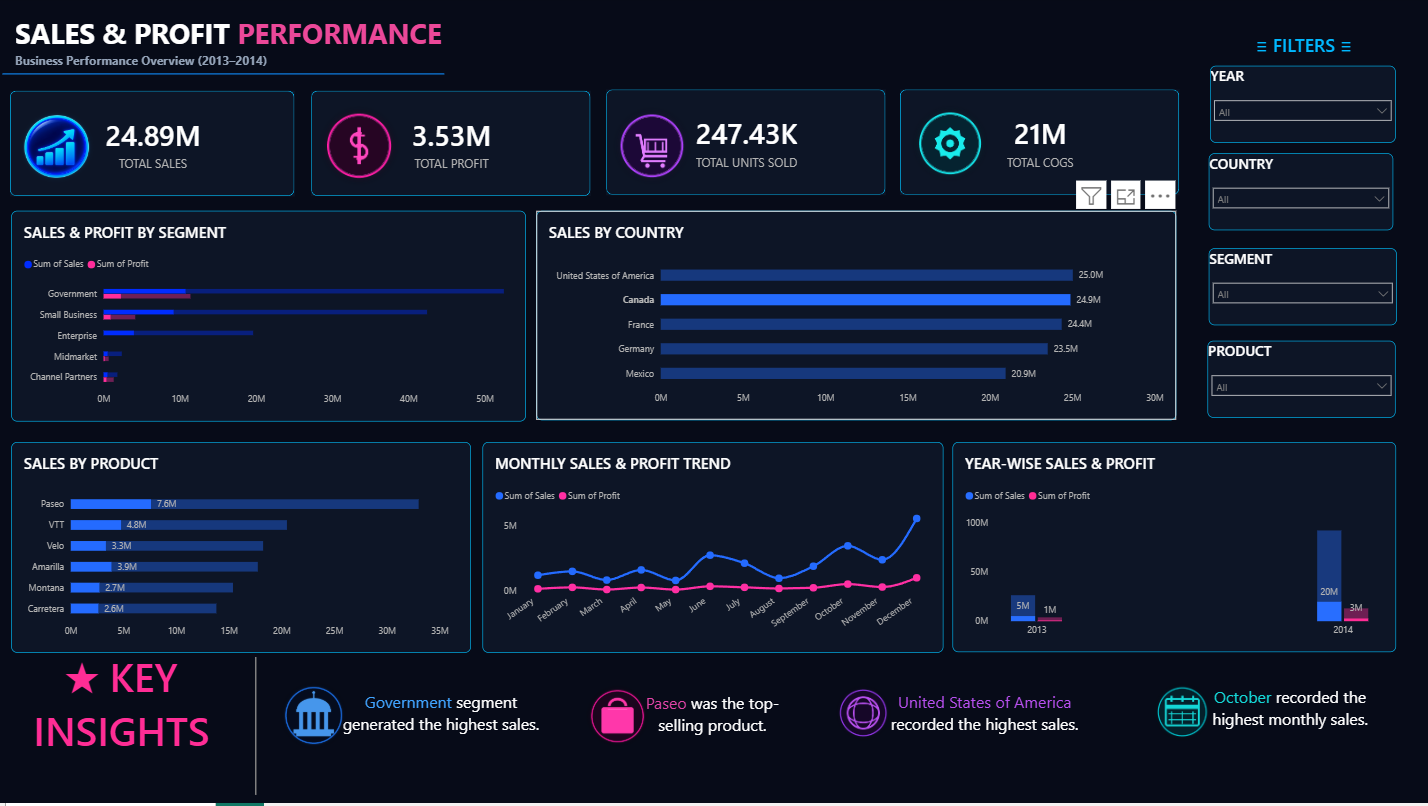

The page's visual inventory and layout, read from the dashboard file:
{"tool":"powerbi","page":{"name":"Sales & Profit Overview","canvas":[1920,1080],"ordinal":0},"visuals":[{"type":"textbox","box":[20.9,22.7,577,162.2],"z":0},{"type":"slicer","title":"YEAR","fields":{"Values":["Week4_Final_Cleaned_Sales_Data.Year"]},"box":[1622.3,92.4,248.8,103.1],"z":0,"group":"g1"},{"type":"shape","box":[3.5,82,592,41.9],"z":1000},{"type":"slicer","title":"COUNTRY","fields":{"Values":["Week4_Final_Cleaned_Sales_Data.Country"]},"box":[1620.9,209.9,247.1,103.1],"z":1000,"group":"g1"},{"type":"cardVisual","fields":{"Data":["Sum(Week4_Final_Cleaned_Sales_Data.Sales)"]},"box":[14,125.6,381.6,141.3],"z":2000},{"type":"slicer","title":"SEGMENT","fields":{"Values":["Week4_Final_Cleaned_Sales_Data.Segment"]},"box":[1619.5,337.5,252,103.1],"z":2000,"group":"g1"},{"type":"cardVisual","fields":{"Data":["Sum(Week4_Final_Cleaned_Sales_Data.Profit)"]},"box":[416.9,125.9,374,141],"z":3000},{"type":"slicer","title":"PRODUCT","fields":{"Values":["Week4_Final_Cleaned_Sales_Data.Product"]},"box":[1618.6,461.2,252,103.1],"z":3000,"group":"g1"},{"type":"cardVisual","fields":{"Data":["Sum(Week4_Final_Cleaned_Sales_Data.Units Sold)"]},"box":[812.1,123.8,374,141.3],"z":4000},{"type":"cardVisual","fields":{"Data":["Sum(Week4_Final_Cleaned_Sales_Data.COGS)"]},"box":[1205.9,123.8,374.3,141.3],"z":5000},{"type":"clusteredBarChart","title":"SALES & PROFIT BY SEGMENT","fields":{"Category":["Week4_Final_Cleaned_Sales_Data.Segment"],"Y":["Sum(Week4_Final_Cleaned_Sales_Data.Sales)","Sum(Week4_Final_Cleaned_Sales_Data.Profit)"]},"box":[15.7,286,689.3,282.6],"z":6000},{"type":"clusteredBarChart","title":"SALES BY COUNTRY","fields":{"Category":["Week4_Final_Cleaned_Sales_Data.Country"],"Y":["Sum(Week4_Final_Cleaned_Sales_Data.Sales)"]},"box":[718.6,286,857.8,280.8],"z":7000},{"type":"clusteredBarChart","title":"SALES BY PRODUCT","fields":{"Category":["Week4_Final_Cleaned_Sales_Data.Product"],"Y":["Sum(Week4_Final_Cleaned_Sales_Data.Sales)"]},"box":[15.7,596.5,616,282.6],"z":8000},{"type":"lineChart","title":"MONTHLY SALES & PROFIT TREND","fields":{"Category":["Week4_Final_Cleaned_Sales_Data.Month Name"],"Y":["Sum(Week4_Final_Cleaned_Sales_Data.Sales)","Sum(Week4_Final_Cleaned_Sales_Data.Profit)"]},"box":[647.1,596.5,617.4,282.6],"z":9000},{"type":"group","id":"g1","title":"Group 1","box":[1618.6,92.4,252.9,472],"z":10000},{"type":"textbox","box":[1657,48.8,181.4,43.3],"z":11000},{"type":"clusteredColumnChart","title":"YEAR-WISE SALES & PROFIT","fields":{"Category":["Week4_Final_Cleaned_Sales_Data.Year"],"Y":["Sum(Week4_Final_Cleaned_Sales_Data.Sales)","Sum(Week4_Final_Cleaned_Sales_Data.Profit)"]},"box":[1276.7,596.5,594.8,281.9],"z":12000},{"type":"textbox","box":[10.5,873.8,305.2,200.6],"z":13000},{"type":"image","box":[6.3,113.4,139.2,174.4],"z":13001},{"type":"image","box":[427.3,116.9,108.1,164],"z":13002},{"type":"image","box":[820.8,112.3,105.7,174.4],"z":13003},{"type":"image","box":[1220.9,108.5,104.3,174.4],"z":13004},{"type":"shape","box":[205,885,276.7,185],"z":13005},{"type":"textbox","box":[446.2,930,290.6,150],"z":13006},{"type":"image","box":[363.8,916,113.7,93.1],"z":13007},{"type":"textbox","box":[850.5,931.7,207.6,64.2],"z":13008},{"type":"image","box":[782.4,920.9,90.7,85.1],"z":13009},{"type":"textbox","box":[1186,930.4,266.9,81.6],"z":13010},{"type":"image","box":[1115.2,921.3,82.3,76],"z":13011},{"type":"textbox","box":[1618.3,923.7,221.2,83],"z":13012},{"type":"image","box":[1541.5,918.1,86.5,80.2],"z":13013}]}

Visuals, with their boxes in screenshot pixels (x1, y1, x2, y2), scaled from the page's 1920x1080 canvas onto the 1428x806 screenshot:
textbox: Rect(16, 17, 445, 138)
"YEAR" slicer: Rect(1207, 69, 1392, 146)
shape: Rect(3, 61, 443, 92)
"COUNTRY" slicer: Rect(1206, 157, 1389, 234)
cardVisual - Sum(Week4_Final_Cleaned_Sales_Data.Sales): Rect(10, 94, 294, 199)
"SEGMENT" slicer: Rect(1205, 252, 1392, 329)
cardVisual - Sum(Week4_Final_Cleaned_Sales_Data.Profit): Rect(310, 94, 588, 199)
"PRODUCT" slicer: Rect(1204, 344, 1391, 421)
cardVisual - Sum(Week4_Final_Cleaned_Sales_Data.Units Sold): Rect(604, 92, 882, 198)
cardVisual - Sum(Week4_Final_Cleaned_Sales_Data.COGS): Rect(897, 92, 1175, 198)
"SALES & PROFIT BY SEGMENT" clusteredBarChart: Rect(12, 213, 524, 424)
"SALES BY COUNTRY" clusteredBarChart: Rect(534, 213, 1172, 423)
"SALES BY PRODUCT" clusteredBarChart: Rect(12, 445, 470, 656)
"MONTHLY SALES & PROFIT TREND" lineChart: Rect(481, 445, 940, 656)
"Group 1" group: Rect(1204, 69, 1392, 421)
textbox: Rect(1232, 36, 1367, 69)
"YEAR-WISE SALES & PROFIT" clusteredColumnChart: Rect(950, 445, 1392, 656)
textbox: Rect(8, 652, 235, 802)
image: Rect(5, 85, 108, 215)
image: Rect(318, 87, 398, 210)
image: Rect(610, 84, 689, 214)
image: Rect(908, 81, 986, 211)
shape: Rect(152, 660, 358, 799)
textbox: Rect(332, 694, 548, 805)
image: Rect(271, 684, 355, 753)
textbox: Rect(633, 695, 787, 743)
image: Rect(582, 687, 649, 751)
textbox: Rect(882, 694, 1081, 755)
image: Rect(829, 688, 891, 744)
textbox: Rect(1204, 689, 1368, 751)
image: Rect(1146, 685, 1211, 745)
